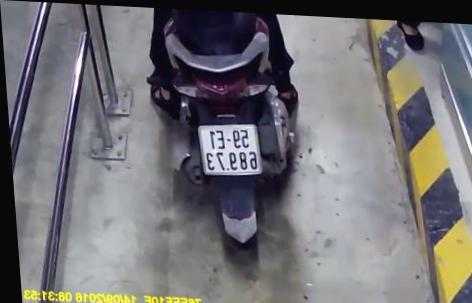License_Plate: (194, 118, 263, 186)
